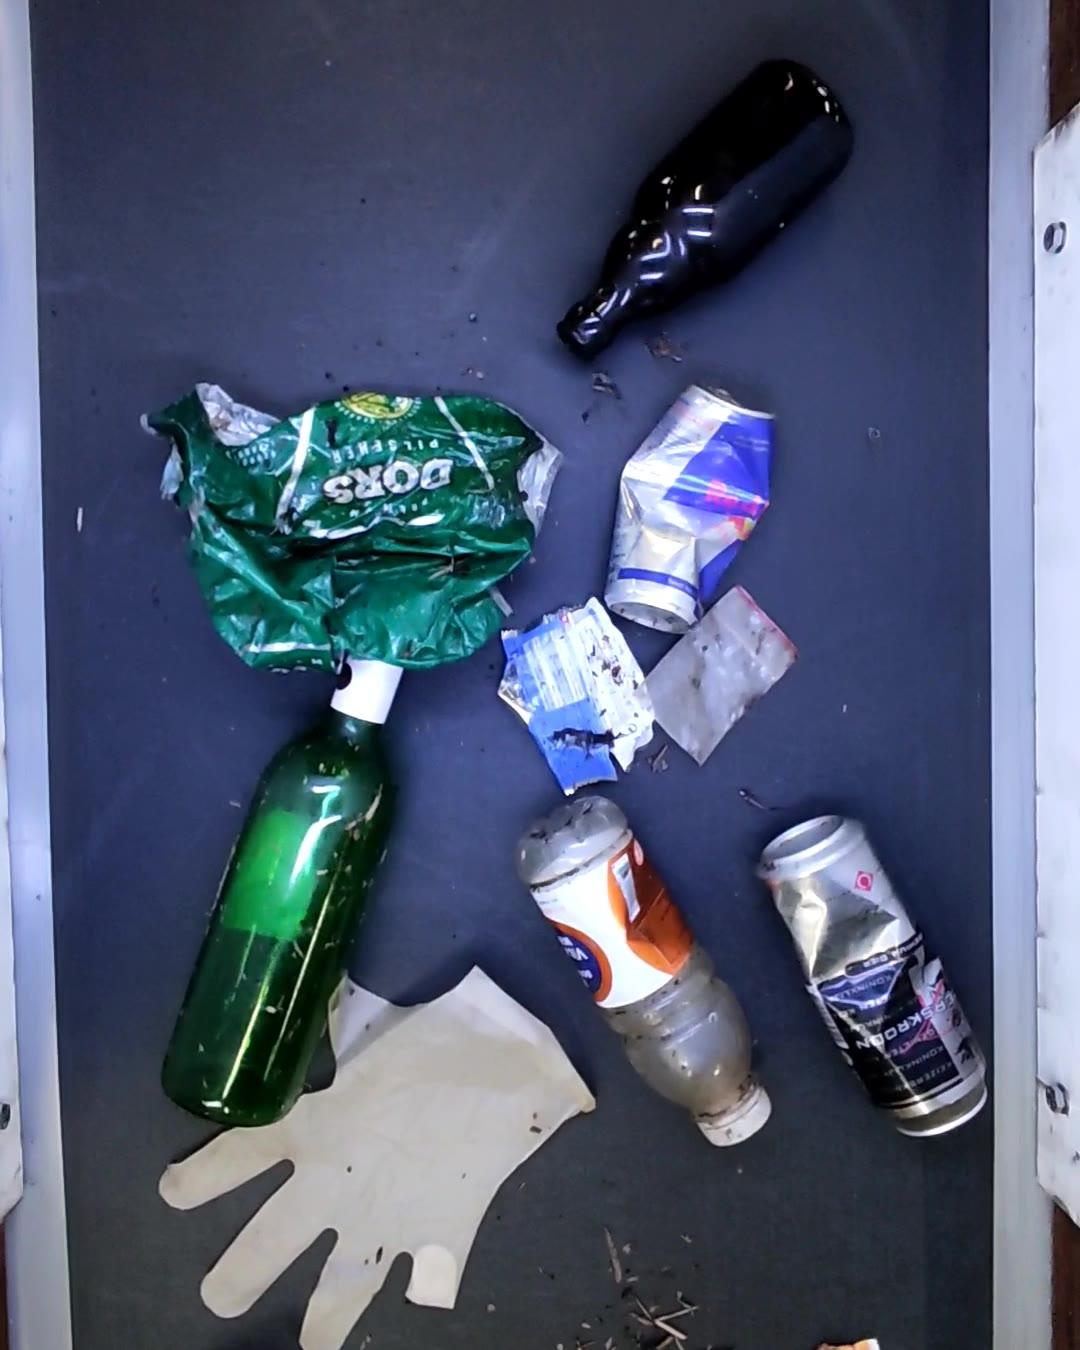Drankblikjes: (763, 809, 993, 1142), (613, 385, 778, 630)
Drankflessen - 1-2 liter: (517, 792, 776, 1151)
Snoep snack en chips verpakkingen: (496, 601, 658, 792)
